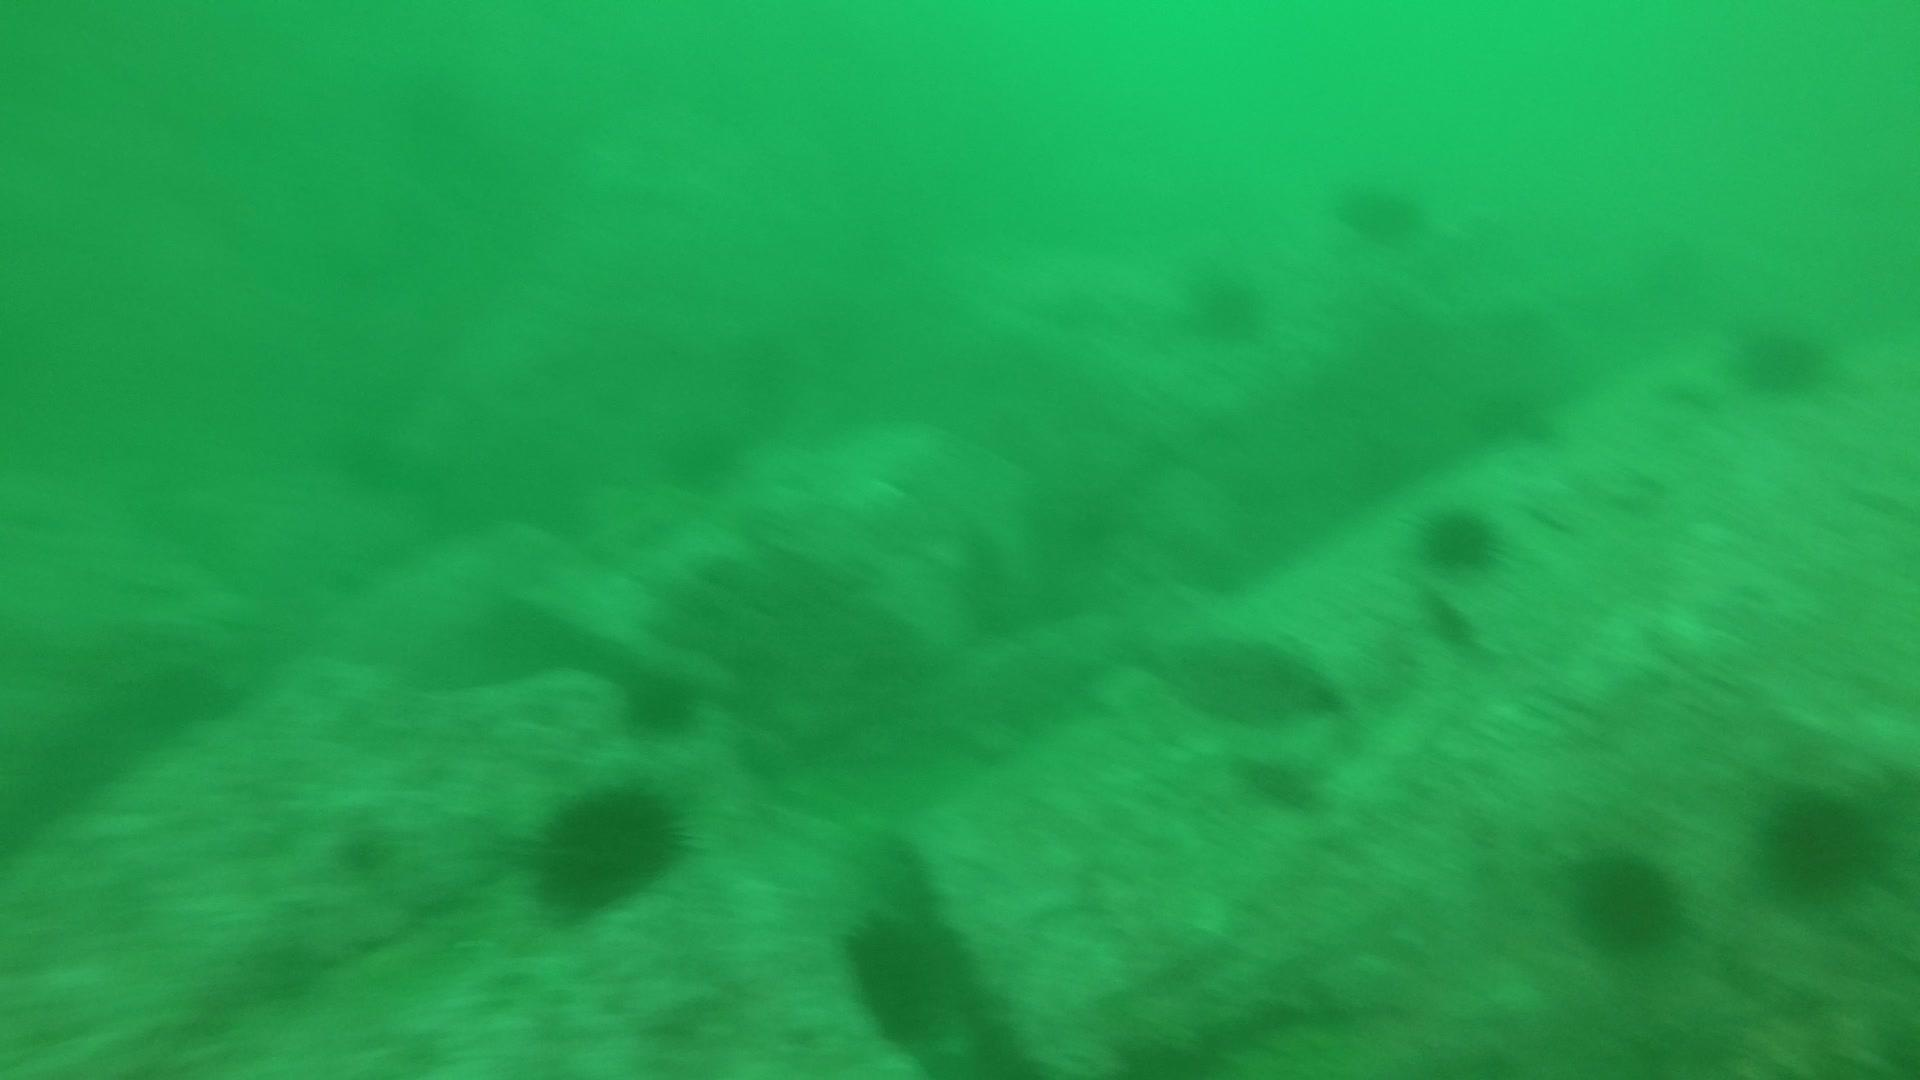echinus: (525, 777, 692, 916), (839, 907, 969, 1044), (1753, 781, 1883, 905), (1563, 841, 1688, 957), (1726, 310, 1836, 400), (1180, 258, 1270, 345), (1411, 498, 1507, 578), (1332, 171, 1428, 248), (615, 662, 704, 740), (313, 811, 402, 889), (1236, 746, 1325, 815)
